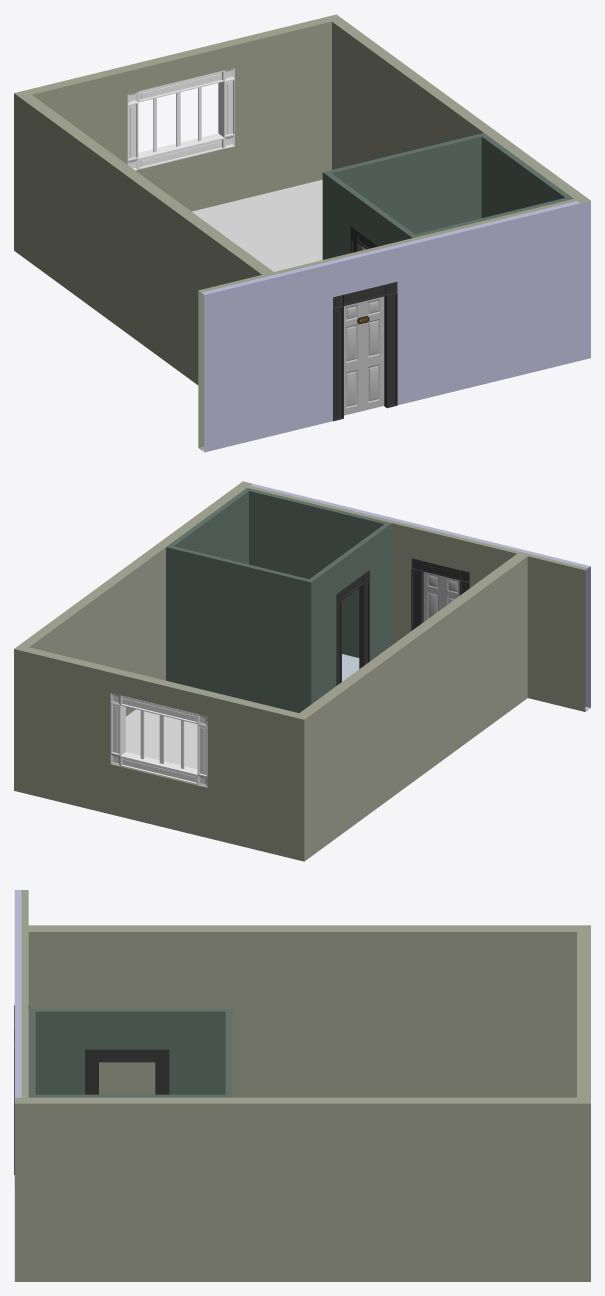
File: Room607.fbx
3 renders of one model, top to bottom at view 1: azimuth 30°, elevation 25°; view 2: azimuth 150°, elevation 25°; view 3: azimuth 270°, elevation 25°, orthographic. The views are drawn at different scales.
Visible parts, largest first — view 1: room_wall4.001, room_wall4.011, room_wall1.015, room_wall4.002, hall_middlewall.007, bath_wall.011, hall_middlewall.008, room_floor.011, room_doorframe1.011, room_wall3.001, Door607, bath_wall3.011 (+5 smaller); view 2: room_wall4.011, room_wall4.001, bath_wall.011, room_wall4.002, bath_wall2.011, hall_middlewall.007, room_wall3.001, room_doorframe1.011, bath_doorframe1.011, bath_wall3.011, room_floor.011, bath_doorframe3.011 (+5 smaller); view 3: room_wall4.002, room_wall4.001, bath_doorframe1.011, room_wall4.011, bath_doorframe2.011, bath_doorframe3.011, room_wall1.015, room_doorframe1.011, bath_wall3.011, bath_wall.011, bath_wall2.011.
Boxes of the visible parts, x1,y1,x2,y2 form: room_wall4.001: [20, 95, 273, 384]; room_wall4.011: [14, 14, 341, 254]; room_wall1.015: [413, 199, 590, 399]; room_wall4.002: [332, 19, 590, 203]; hall_middlewall.007: [198, 277, 258, 452]; bath_wall.011: [322, 133, 486, 259]; hall_middlewall.008: [252, 264, 311, 439]; room_floor.011: [192, 179, 322, 271]; room_doorframe1.011: [305, 238, 418, 313]; room_wall3.001: [127, 68, 234, 170]; Door607: [344, 296, 384, 415]; bath_wall3.011: [481, 135, 570, 217]; room_wall4.011: [14, 645, 309, 861]; room_wall4.001: [299, 553, 527, 857]; bath_wall.011: [166, 545, 313, 712]; room_wall4.002: [20, 481, 251, 716]; bath_wall2.011: [244, 488, 386, 657]; hall_middlewall.007: [537, 554, 590, 711]; room_wall3.001: [110, 693, 207, 787]; room_doorframe1.011: [392, 519, 494, 583]; bath_doorframe1.011: [309, 522, 392, 620]; bath_wall3.011: [169, 490, 248, 564]; room_floor.011: [126, 709, 197, 769]; bath_doorframe3.011: [359, 564, 392, 668]; room_wall4.002: [15, 1097, 576, 1281]; room_wall4.001: [28, 925, 576, 1097]; bath_doorframe1.011: [28, 1008, 225, 1062]; room_wall4.011: [577, 925, 590, 1281]; bath_doorframe2.011: [155, 1062, 225, 1094]; bath_doorframe3.011: [35, 1062, 98, 1094]; room_wall1.015: [14, 1008, 28, 1281]; room_doorframe1.011: [14, 949, 29, 1047]; bath_wall3.011: [35, 1094, 225, 1097]; bath_wall.011: [225, 1008, 232, 1097]; bath_wall2.011: [28, 1011, 35, 1097].
Bounding box in the file's own units: 726 × 283 × 829.
